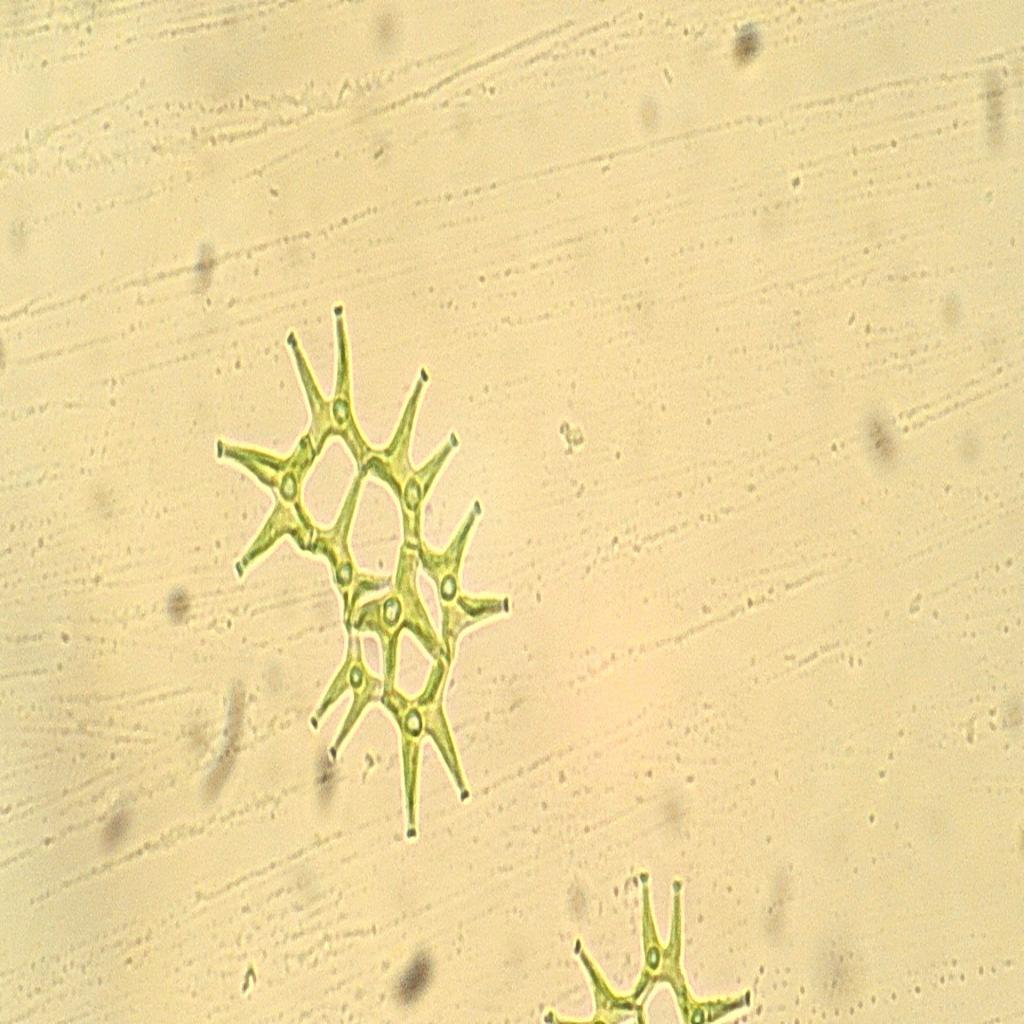Pediastrum_CFI: (210, 274, 520, 857)
